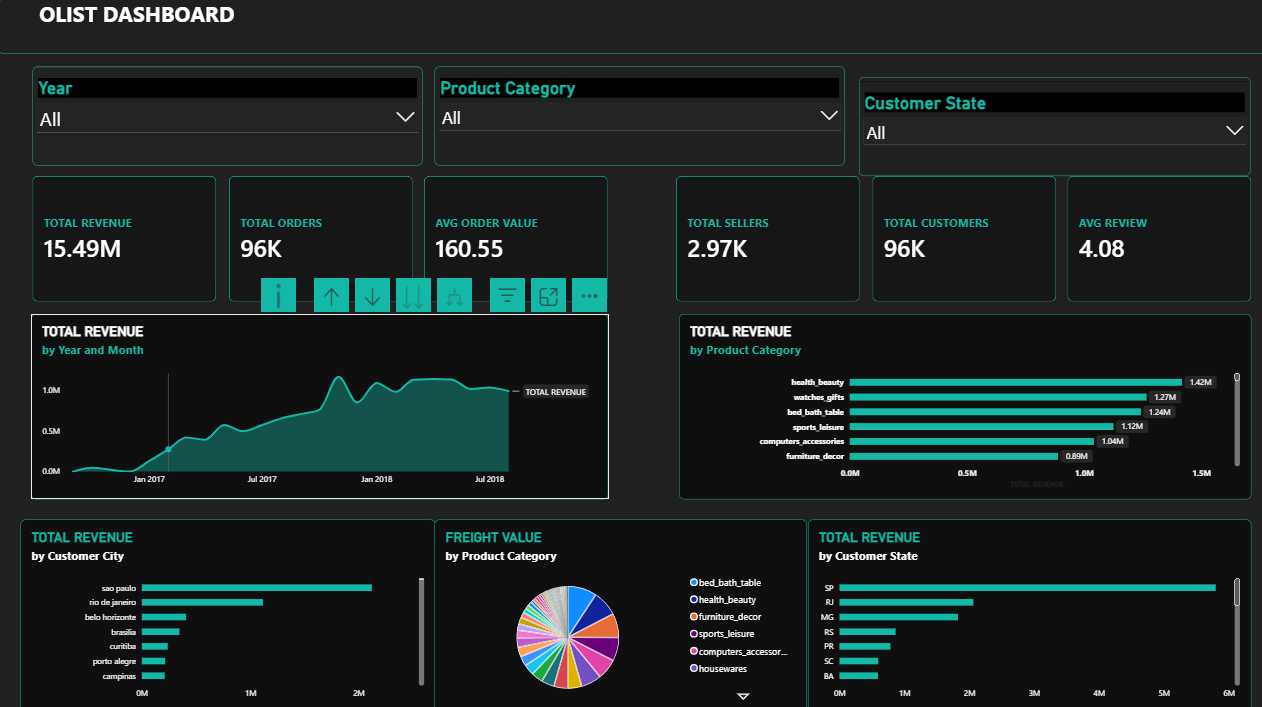

This screenshot's page, from the dashboard's own definition file:
{"tool":"powerbi","page":{"name":"Page 1","canvas":[1920,1080],"ordinal":0},"visuals":[{"type":"textbox","box":[0,0,1919.2,82.8],"z":0},{"type":"cardVisual","fields":{"Data":["vw_Sales_Clean.TOTAL REVENUE"]},"box":[52.4,269,278.6,190.5],"z":1000},{"type":"cardVisual","fields":{"Data":["vw_Sales_Clean.TOTAL ORDERS"]},"box":[350,269,278.6,190.5],"z":3000},{"type":"cardVisual","fields":{"Data":["vw_Sales_Clean.AVG REVIEW"]},"box":[1619,269,278.6,190.5],"z":4000},{"type":"cardVisual","fields":{"Data":["vw_Sales_Clean.AVG ORDER VALUE"]},"box":[645.2,269,278.6,190.5],"z":5000},{"type":"lineChart","fields":{"Category":["vw_Sales_Clean.Order_Date.Variation.Date Hierarchy.Year","vw_Sales_Clean.Order_Date.Variation.Date Hierarchy.Month"],"Y":["vw_Sales_Clean.TOTAL REVENUE"]},"box":[50,476.2,873.8,281],"z":6000},{"type":"barChart","fields":{"Category":["vw_Sales_Clean.Category_English"],"Y":["vw_Sales_Clean.TOTAL REVENUE"]},"box":[1031,476.2,866.7,281],"z":7000},{"type":"barChart","fields":{"Category":["vw_Sales_Clean.customer_city"],"Y":["vw_Sales_Clean.TOTAL REVENUE"]},"box":[33.3,788.1,628.6,292.9],"z":8000},{"type":"barChart","fields":{"Category":["vw_Sales_Clean.customer_state"],"Y":["vw_Sales_Clean.TOTAL REVENUE"]},"box":[1226.2,788.1,671.4,292.9],"z":9000},{"type":"pieChart","fields":{"Category":["vw_Sales_Clean.Category_English"],"Y":["Sum(vw_Sales_Clean.freight_value)"]},"box":[661.9,788.1,564.3,292.9],"z":10000},{"type":"slicer","fields":{"Values":["vw_Sales_Clean.Order_Year"]},"box":[52.4,102.4,590.5,150],"z":10001},{"type":"slicer","fields":{"Values":["vw_Sales_Clean.Category_English"]},"box":[661.9,102.4,621.4,150],"z":10002},{"type":"slicer","fields":{"Values":["vw_Sales_Clean.customer_state"]},"box":[1304.8,119,592.9,150],"z":10003},{"type":"cardVisual","fields":{"Data":["Count(vw_Sales_Clean.seller_id)"]},"box":[1026.2,269,278.6,190.5],"z":10004},{"type":"cardVisual","fields":{"Data":["vw_Sales_Clean.TOTAL CUSTOMERS"]},"box":[1323.8,269,278.6,190.5],"z":10005}]}

Visuals, with their boxes in screenshot pixels (x1, y1, x2, y2), scaled from the page's 1920x1080 canvas onto the 1262x707 screenshot:
textbox: left=0, top=0, right=1261, bottom=54
cardVisual - vw_Sales_Clean.TOTAL REVENUE: left=34, top=176, right=218, bottom=301
cardVisual - vw_Sales_Clean.TOTAL ORDERS: left=230, top=176, right=413, bottom=301
cardVisual - vw_Sales_Clean.AVG REVIEW: left=1064, top=176, right=1247, bottom=301
cardVisual - vw_Sales_Clean.AVG ORDER VALUE: left=424, top=176, right=607, bottom=301
lineChart - vw_Sales_Clean.Order_Date.Variation.Date Hierarchy.Year x vw_Sales_Clean.Order_Date.Variation.Date Hierarchy.Month: left=33, top=312, right=607, bottom=496
barChart - vw_Sales_Clean.Category_English x vw_Sales_Clean.TOTAL REVENUE: left=678, top=312, right=1247, bottom=496
barChart - vw_Sales_Clean.customer_city x vw_Sales_Clean.TOTAL REVENUE: left=22, top=516, right=435, bottom=706
barChart - vw_Sales_Clean.customer_state x vw_Sales_Clean.TOTAL REVENUE: left=806, top=516, right=1247, bottom=706
pieChart - vw_Sales_Clean.Category_English x Sum(vw_Sales_Clean.freight_value): left=435, top=516, right=806, bottom=706
slicer - vw_Sales_Clean.Order_Year: left=34, top=67, right=423, bottom=165
slicer - vw_Sales_Clean.Category_English: left=435, top=67, right=844, bottom=165
slicer - vw_Sales_Clean.customer_state: left=858, top=78, right=1247, bottom=176
cardVisual - Count(vw_Sales_Clean.seller_id): left=675, top=176, right=858, bottom=301
cardVisual - vw_Sales_Clean.TOTAL CUSTOMERS: left=870, top=176, right=1053, bottom=301
